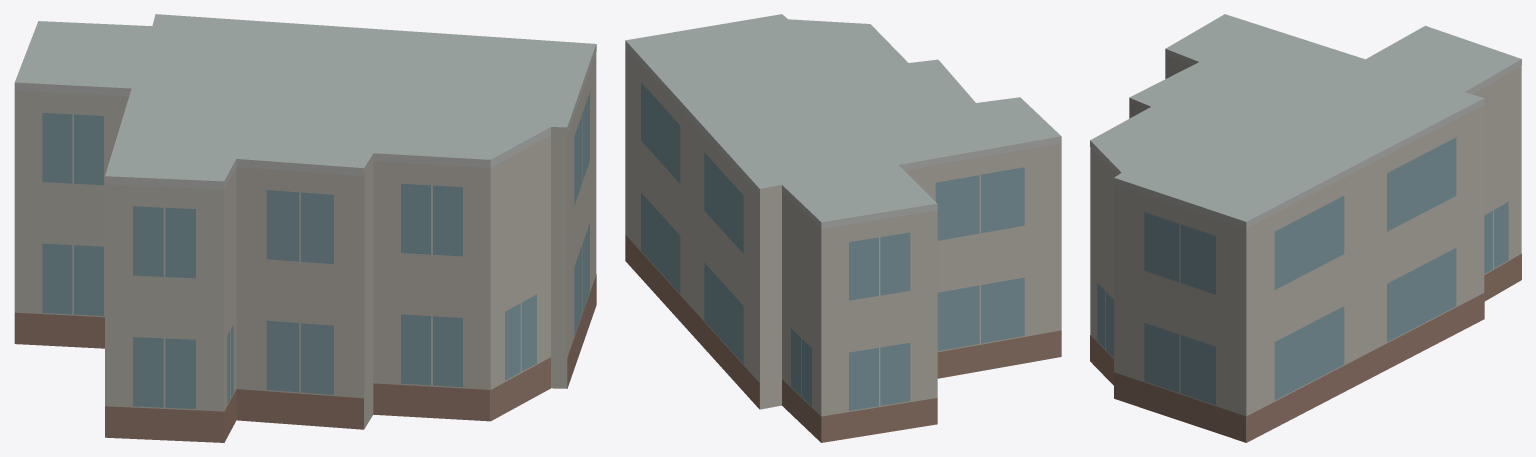
File: survey-upis-33046090.glb
3 views of the same model, side by side, from view 1: azimuth 30°, elevation 25°; view 2: azimuth 150°, elevation 25°; view 3: azimuth 270°, elevation 25° (orthographic). The views are drawn at different scales.
Visible parts, largest first — view 1: survey-upis-33046090.tmp; view 2: survey-upis-33046090.tmp; view 3: survey-upis-33046090.tmp.
Boxes of the visible parts, box(x1,y1,x2,y2) form: survey-upis-33046090.tmp: box(14, 14, 596, 442); survey-upis-33046090.tmp: box(625, 14, 1061, 442); survey-upis-33046090.tmp: box(1090, 14, 1521, 442).
Bounding box in the file's own units: 16.11 × 7.98 × 14.14.
